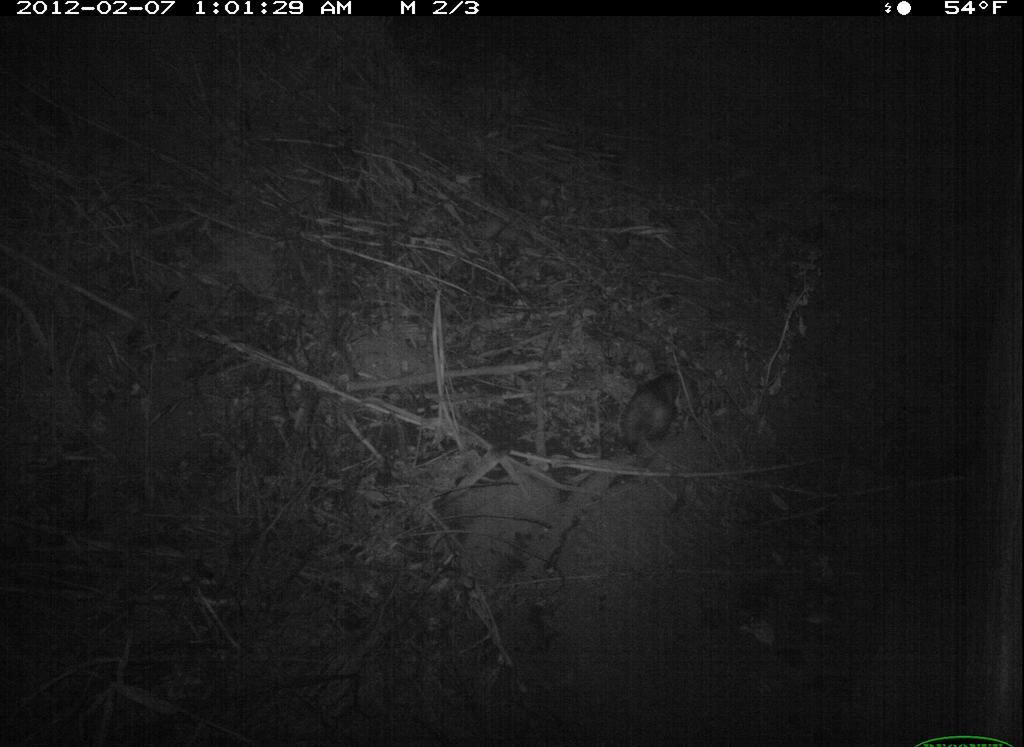opossum: (607, 359, 706, 473)
